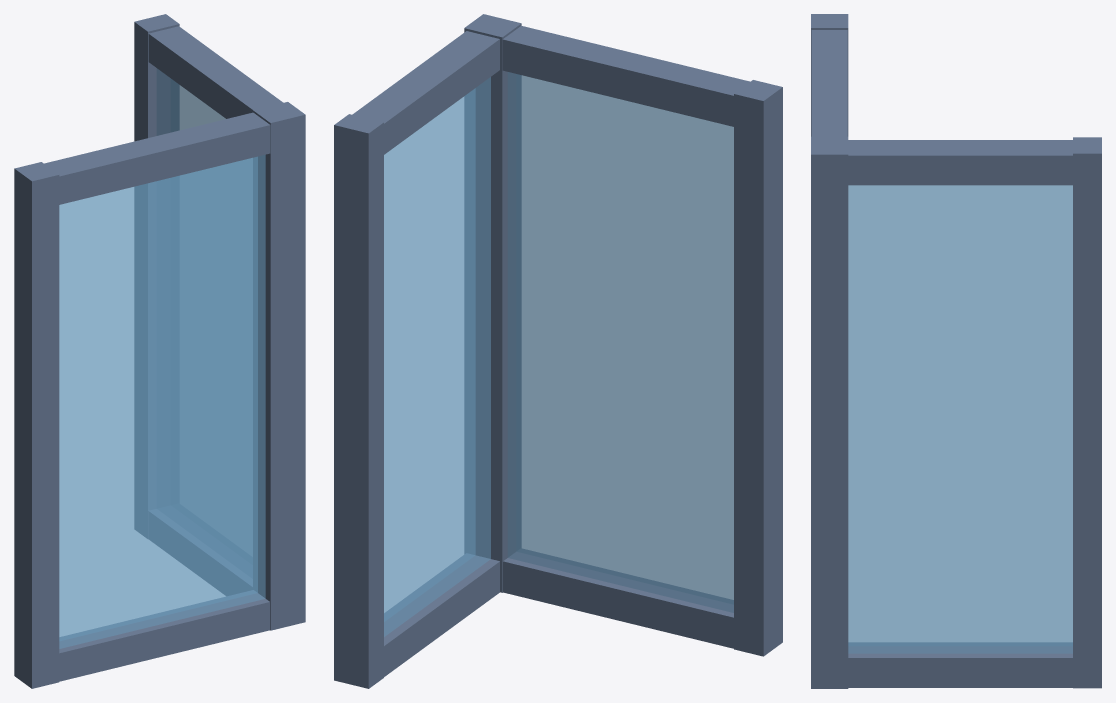
Rendered from 01_window_corner.glb.
The picture shows the model from 3 angles, left to right: view 1: azimuth 30°, elevation 25°; view 2: azimuth 150°, elevation 25°; view 3: azimuth 270°, elevation 25°; orthographic projection. The views are drawn at different scales.
Parts seen in each view (by area): view 1: part_1.007, part_2.007, part_9.001, part_7.001, part_8.001, part_3.007, part_5.007, part_4.006, part_6.005; view 2: part_1.007, part_2.007, part_9.001, part_8.001, part_7.001, part_3.007, part_5.007, part_4.006, part_6.005; view 3: part_2.007, part_9.001, part_8.001, part_4.006, part_6.005, part_3.007, part_7.001.
Boxes of the visible parts, x1,y1,x2,y2 form: part_1.007: (59,155,265,648); part_2.007: (156,68,252,564); part_9.001: (253,102,305,630); part_7.001: (14,162,59,688); part_8.001: (134,14,179,538); part_3.007: (44,112,270,204); part_5.007: (59,590,269,681); part_4.006: (148,26,283,118); part_6.005: (148,509,252,595); part_1.007: (507,72,733,612); part_2.007: (384,77,490,636); part_9.001: (464,14,521,592); part_8.001: (334,114,383,688); part_7.001: (734,80,782,656); part_3.007: (502,26,749,126); part_5.007: (503,548,733,648); part_4.006: (352,31,499,154); part_6.005: (384,553,499,676); part_2.007: (848,185,1072,653); part_9.001: (811,136,848,688); part_8.001: (1073,137,1101,688); part_4.006: (848,140,1072,185); part_6.005: (848,642,1072,687); part_3.007: (811,30,847,136); part_7.001: (811,14,848,136).
Bounding box in the file's own units: 1.7 × 3.01 × 1.48.
